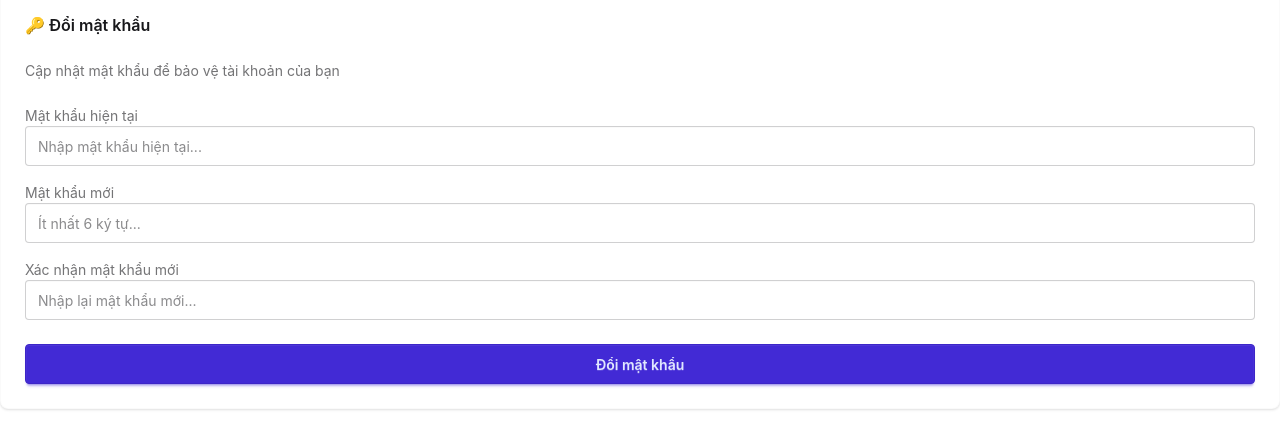
Test: ChangePasswordForm › shows confirm password mismatch error
In the password field labelled "Mật khẩu hiện tại": {"x": 640, "y": 146} [25,126,1255,166], type "OldPass1"
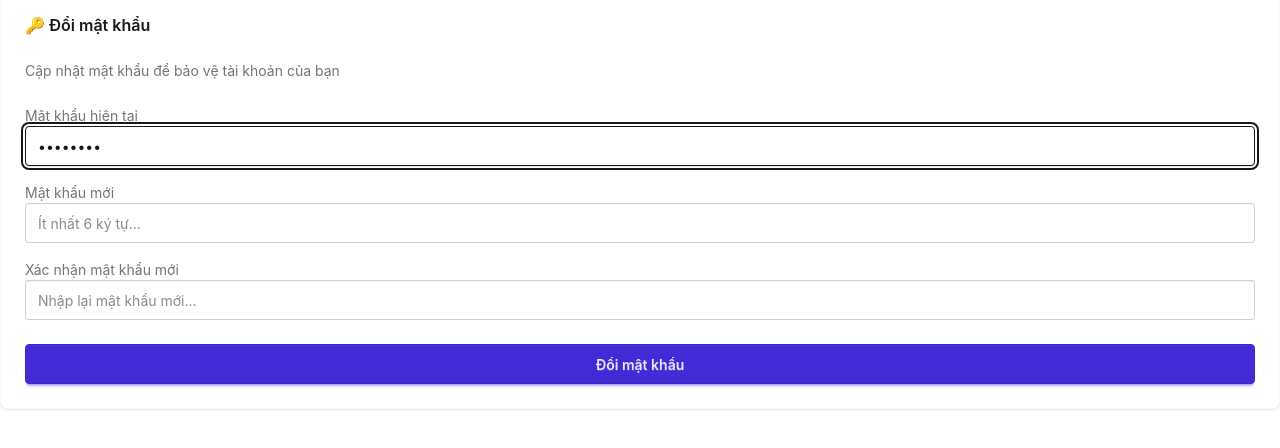
In the password field labelled "Mật khẩu mới": {"x": 640, "y": 223} [25,203,1255,243], type "NewValid1#"
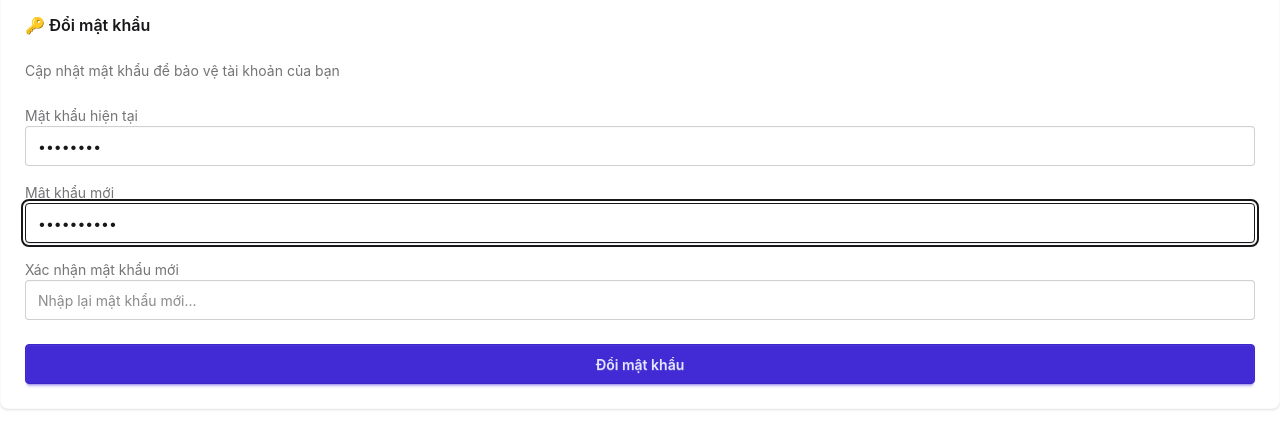
In the password field labelled "Xác nhận mật khẩu mới": {"x": 640, "y": 300} [25,280,1255,320], type "Different1#"
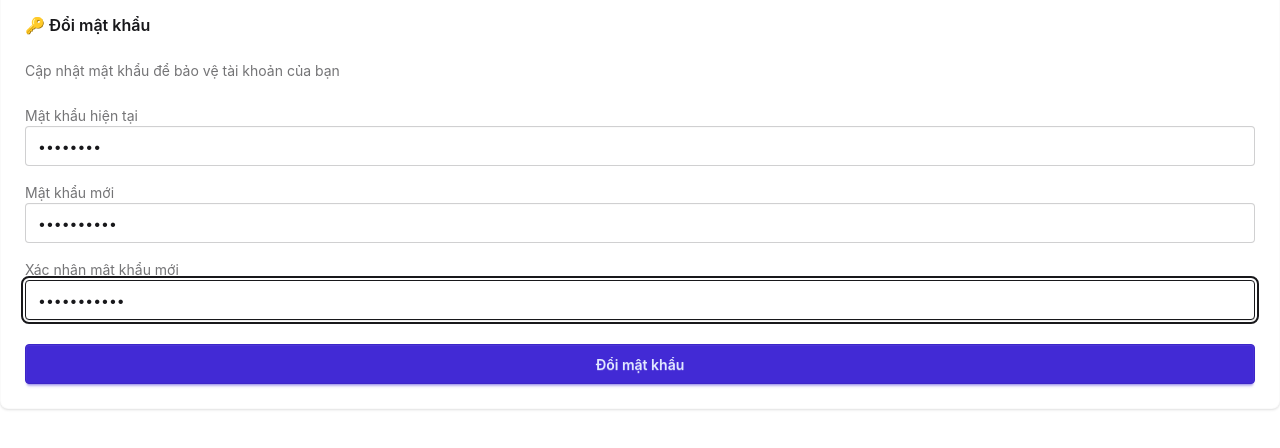
Click the button "Đổi mật khẩu": {"x": 640, "y": 364} [25,344,1255,384]
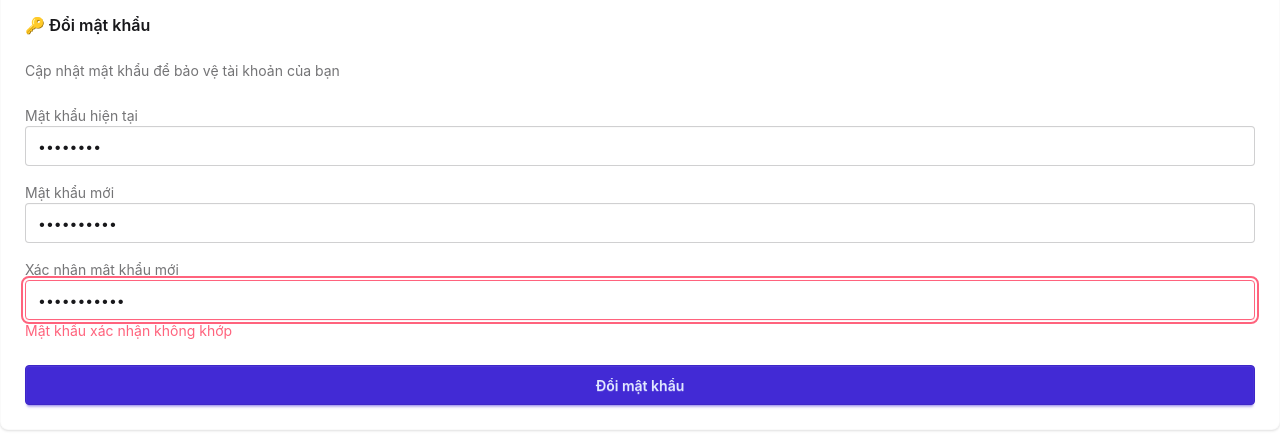
Expected: the text "không khớp" is shown, [25,322,232,339]
